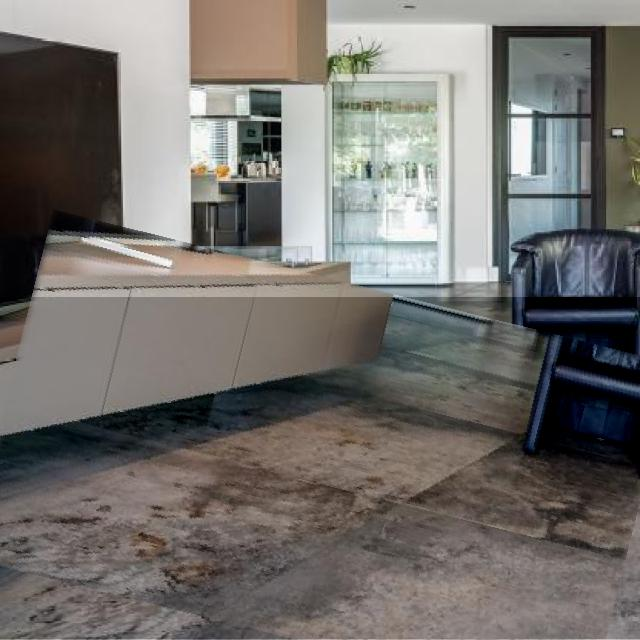floor: (0, 297, 640, 640)
